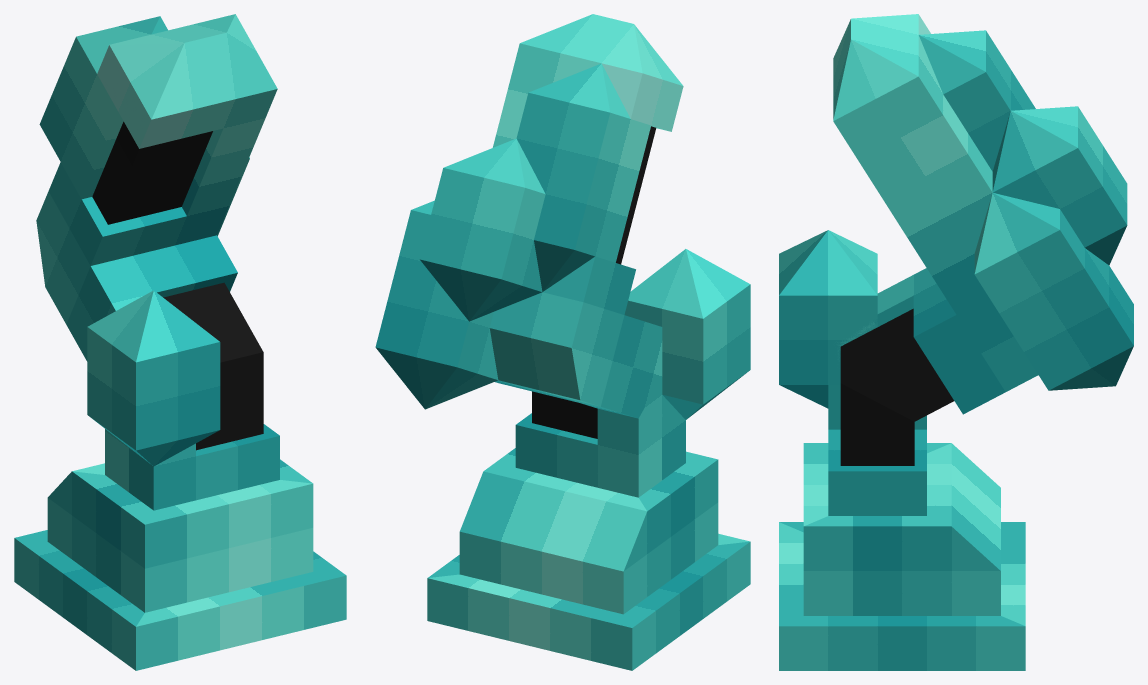
File: leg_basic_l.obj
3 views of the same model, side by side, from view 1: azimuth 30°, elevation 25°; view 2: azimuth 150°, elevation 25°; view 3: azimuth 270°, elevation 25° (orthographic). The views are drawn at different scales.
Parts seen in each view (by area): view 1: LEG_LEFT_BASIC_Cube.013, LEG_LEFT_DECO_DIAMOND_Cube.284; view 2: LEG_LEFT_BASIC_Cube.013, LEG_LEFT_DECO_DIAMOND_Cube.284; view 3: LEG_LEFT_BASIC_Cube.013, LEG_LEFT_DECO_DIAMOND_Cube.284.
Part boxes in pixels (box(x1,y1,x2,y2)): LEG_LEFT_BASIC_Cube.013: box(14, 14, 346, 670); LEG_LEFT_DECO_DIAMOND_Cube.284: box(39, 16, 249, 466); LEG_LEFT_BASIC_Cube.013: box(427, 14, 750, 670); LEG_LEFT_DECO_DIAMOND_Cube.284: box(375, 63, 750, 419); LEG_LEFT_BASIC_Cube.013: box(779, 14, 1038, 670); LEG_LEFT_DECO_DIAMOND_Cube.284: box(779, 30, 1133, 408).
Bounding box in the file's own units: 0.3125 × 0.8246 × 0.4498.
